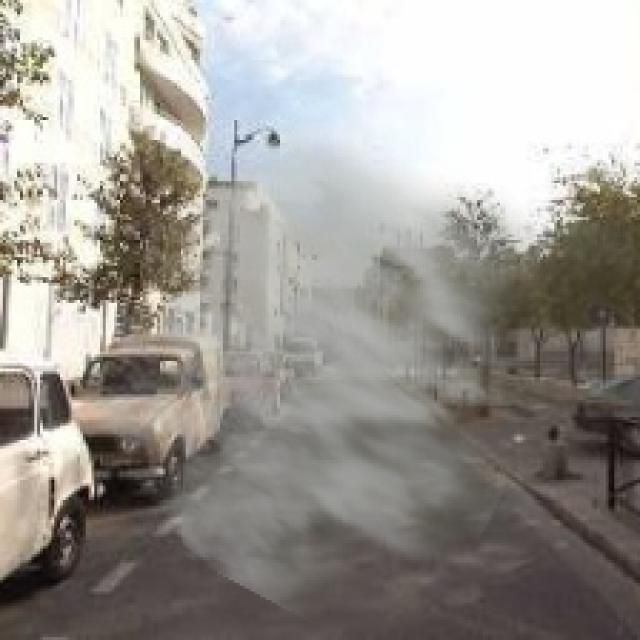smoke: (77, 115, 609, 634)
